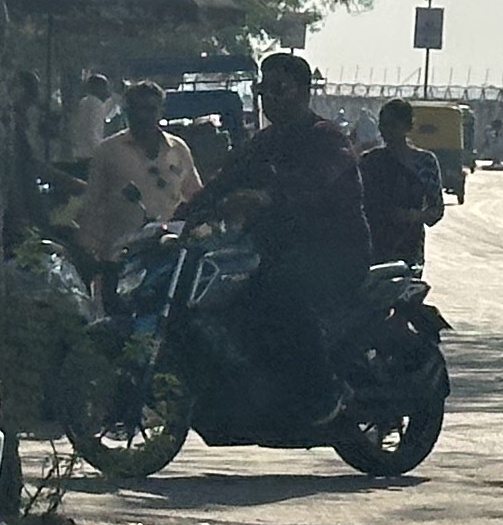BikeWithRider: (71, 47, 460, 485)
NoHelmet: (248, 48, 323, 130)
